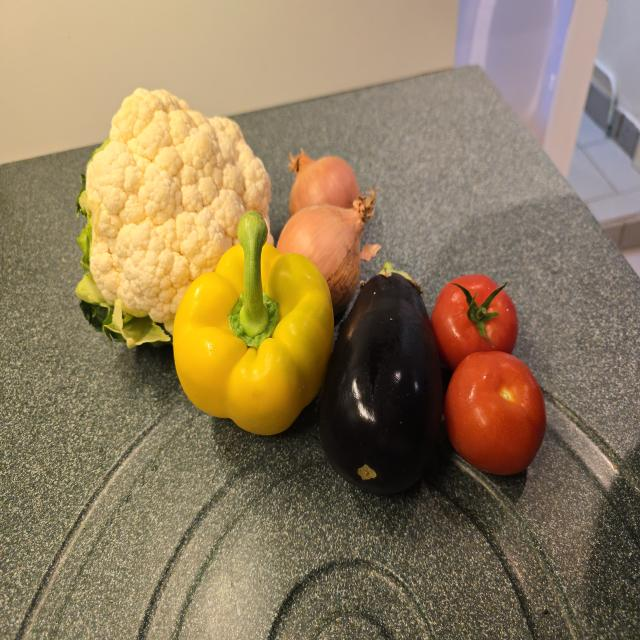Bell Pepper: (173, 211, 334, 435)
Cauliflower: (76, 89, 271, 339)
Eggplant: (318, 265, 444, 495)
Onion: (277, 198, 373, 315), (289, 152, 360, 216)
Tomato: (444, 351, 546, 475), (431, 274, 517, 370)
